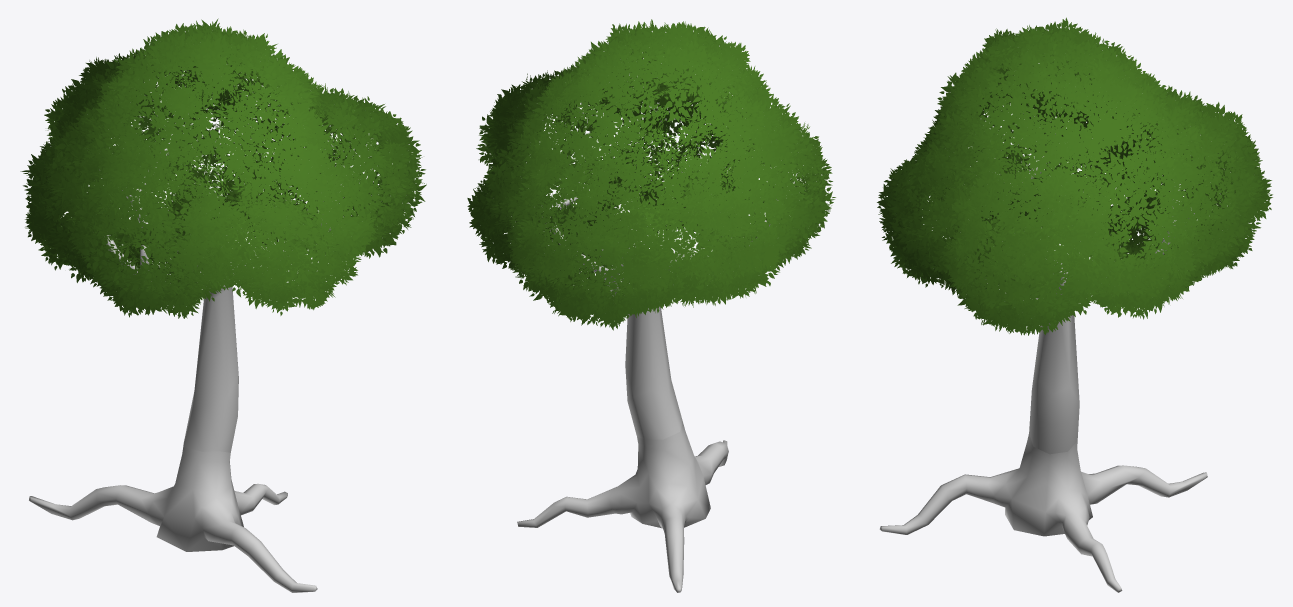
The model's file is Tree1_segments.fbx.
3 renders of one model, left to right at view 1: azimuth 30°, elevation 25°; view 2: azimuth 150°, elevation 25°; view 3: azimuth 270°, elevation 25°, orthographic. The views are drawn at different scales.
Visible parts, largest first — view 1: Leaves.001, Trunk1, Trunk2; view 2: Leaves.001, Trunk1, Trunk2; view 3: Leaves.001, Trunk1, Trunk2.
Part boxes in pixels (x1,y1,x2,y2): Leaves.001: [20, 18, 426, 318]; Trunk1: [29, 445, 317, 592]; Trunk2: [99, 134, 344, 452]; Leaves.001: [467, 19, 835, 330]; Trunk1: [517, 421, 728, 592]; Trunk2: [534, 182, 778, 439]; Leaves.001: [877, 17, 1272, 335]; Trunk1: [879, 433, 1207, 592]; Trunk2: [985, 156, 1194, 454].
Bounding box in the file's own units: 440 × 618 × 445.
